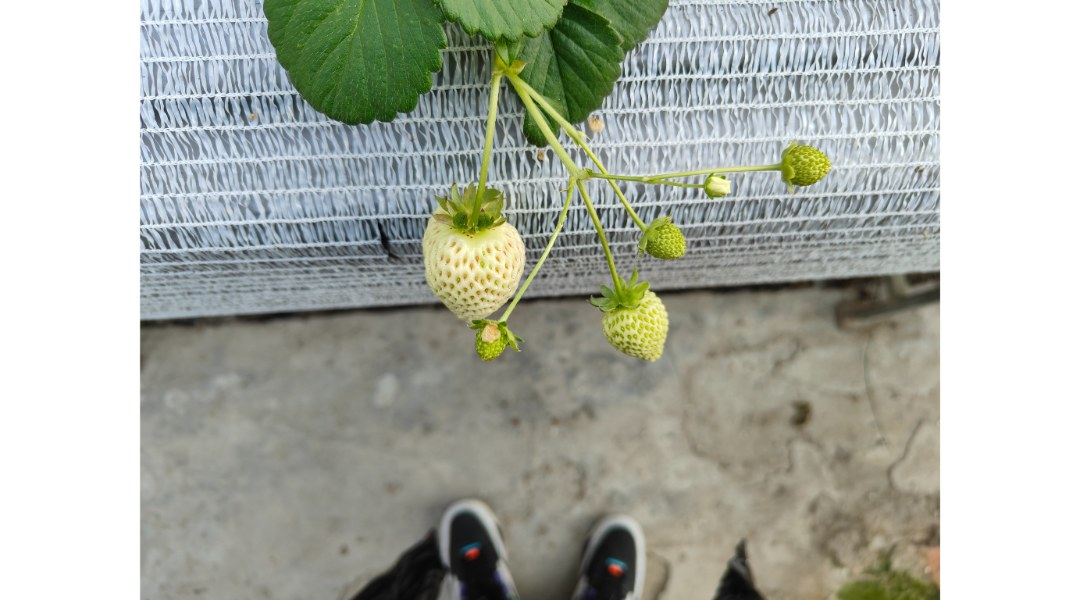berry: (408, 186, 533, 327), (601, 274, 682, 368), (463, 309, 517, 365), (772, 144, 841, 187), (641, 214, 698, 266), (697, 177, 739, 204)
strain: (515, 188, 567, 316), (582, 186, 627, 305), (670, 146, 779, 177), (522, 112, 571, 171), (479, 78, 493, 195)
